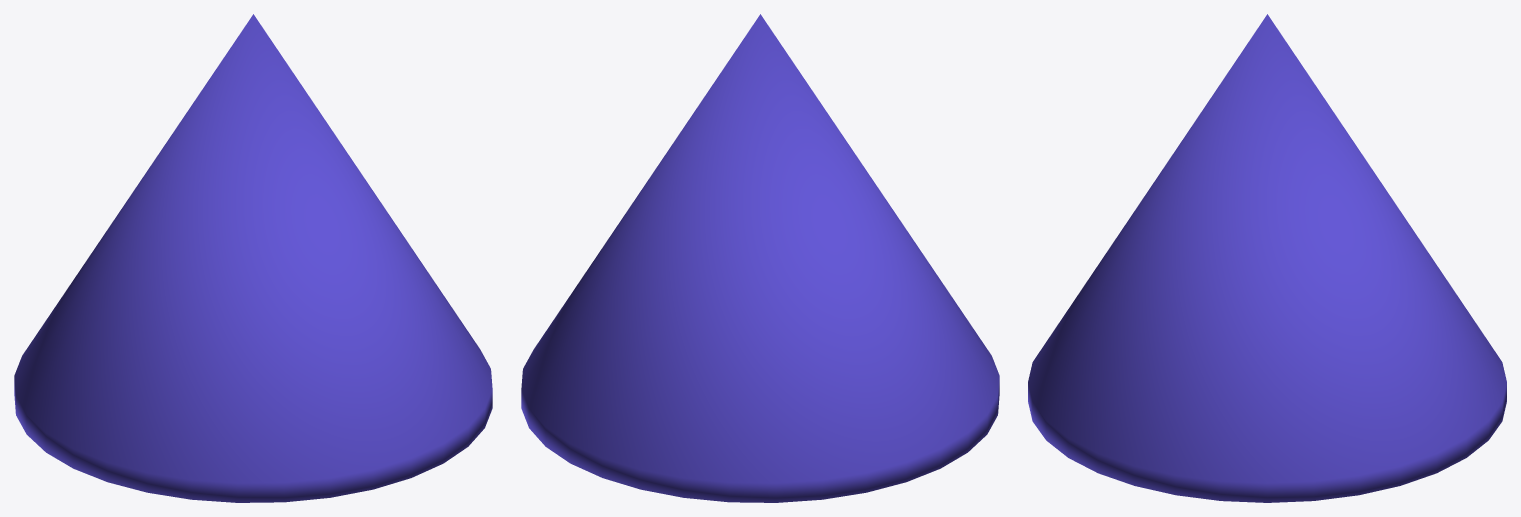
Rendered from selection_cone.fbx.
3 views of the same model, side by side, from view 1: azimuth 30°, elevation 25°; view 2: azimuth 150°, elevation 25°; view 3: azimuth 270°, elevation 25° (orthographic).
Visible parts, largest first — view 1: Cone; view 2: Cone; view 3: Cone.
Boxes of the visible parts, box(x1,y1,x2,y2) form: Cone: box(14, 14, 492, 502); Cone: box(521, 14, 999, 502); Cone: box(1028, 14, 1506, 502).
Bounding box in the file's own units: 200 × 179 × 200.
